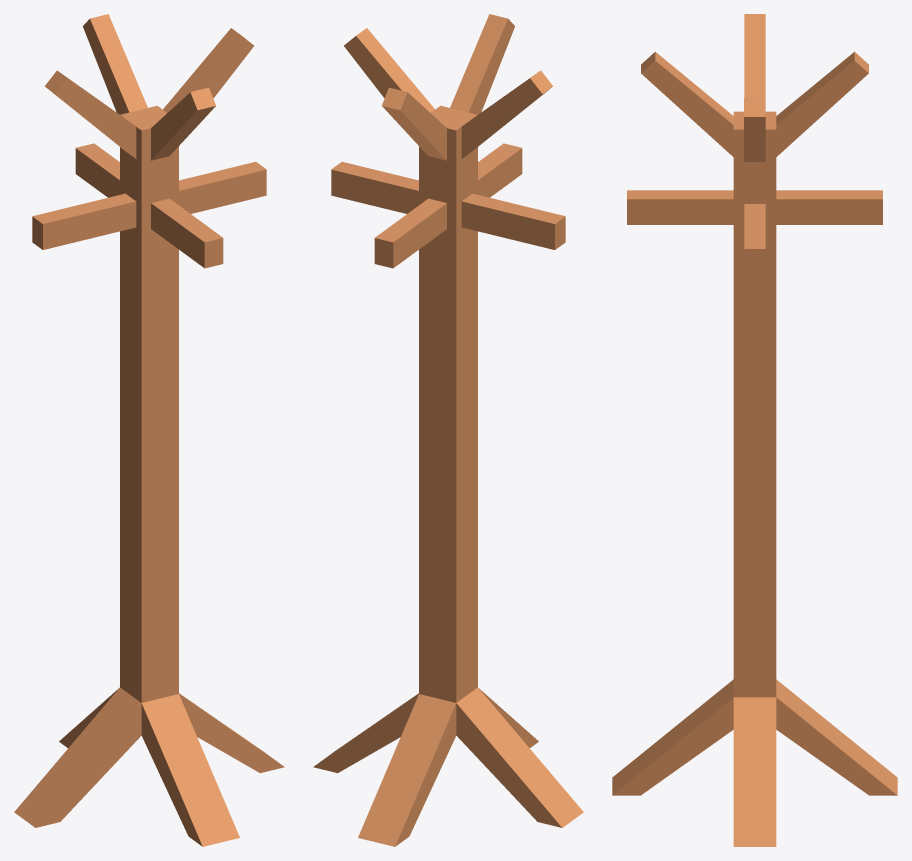
Rendered from coatRackStanding.obj.
3 renders of one model, left to right at view 1: azimuth 30°, elevation 25°; view 2: azimuth 150°, elevation 25°; view 3: azimuth 270°, elevation 25°, orthographic.
Parts seen in each view (by area): view 1: coatRackStanding; view 2: coatRackStanding; view 3: coatRackStanding.
Boxes of the visible parts, left/top/right/bottom form: coatRackStanding: left=14, top=14, right=284, bottom=846; coatRackStanding: left=313, top=14, right=583, bottom=846; coatRackStanding: left=612, top=14, right=897, bottom=846.
Size of the model in its own units: 0.2728 by 0.77 by 0.2728.
